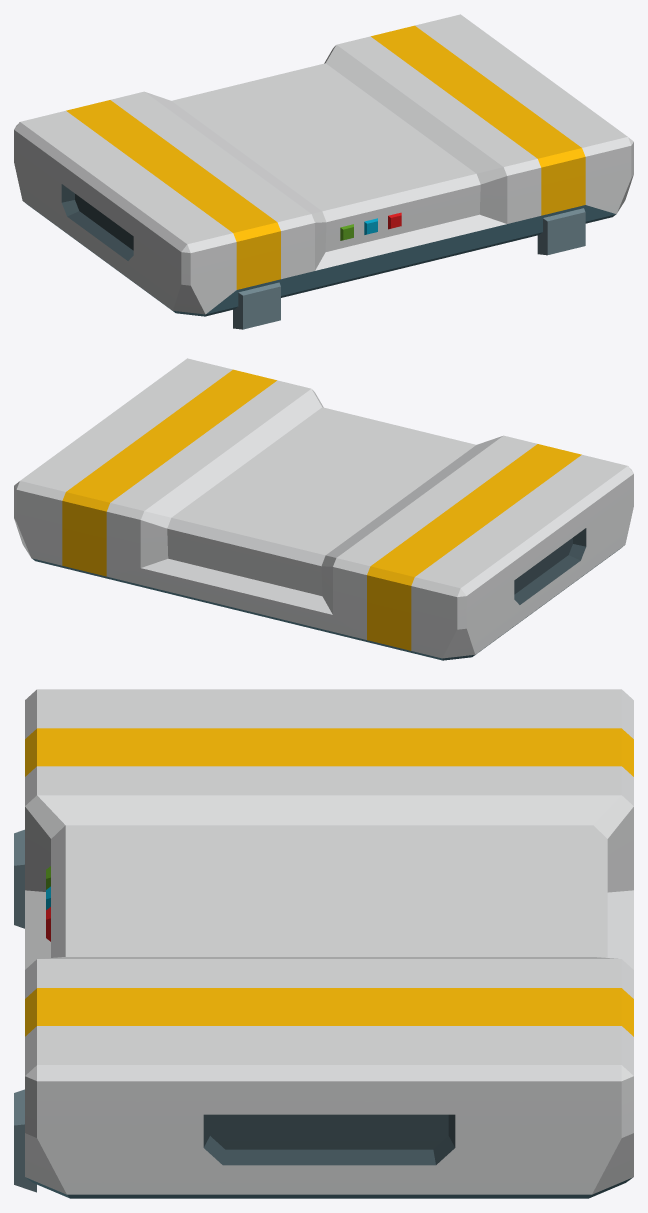
Rendered from Crate_004_cap_001.fbx.
3 renders of one model, top to bottom at view 1: azimuth 30°, elevation 25°; view 2: azimuth 150°, elevation 25°; view 3: azimuth 270°, elevation 25°, orthographic. The views are drawn at different scales.
Visible parts, largest first — view 1: Crate_004_cap_001; view 2: Crate_004_cap_001; view 3: Crate_004_cap_001.
Boxes of the visible parts, x1,y1,x2,y2 form: Crate_004_cap_001: [14, 14, 633, 329]; Crate_004_cap_001: [14, 358, 633, 660]; Crate_004_cap_001: [14, 689, 633, 1198].
Bounding box in the file's own units: 90 × 61.07 × 18.11.
